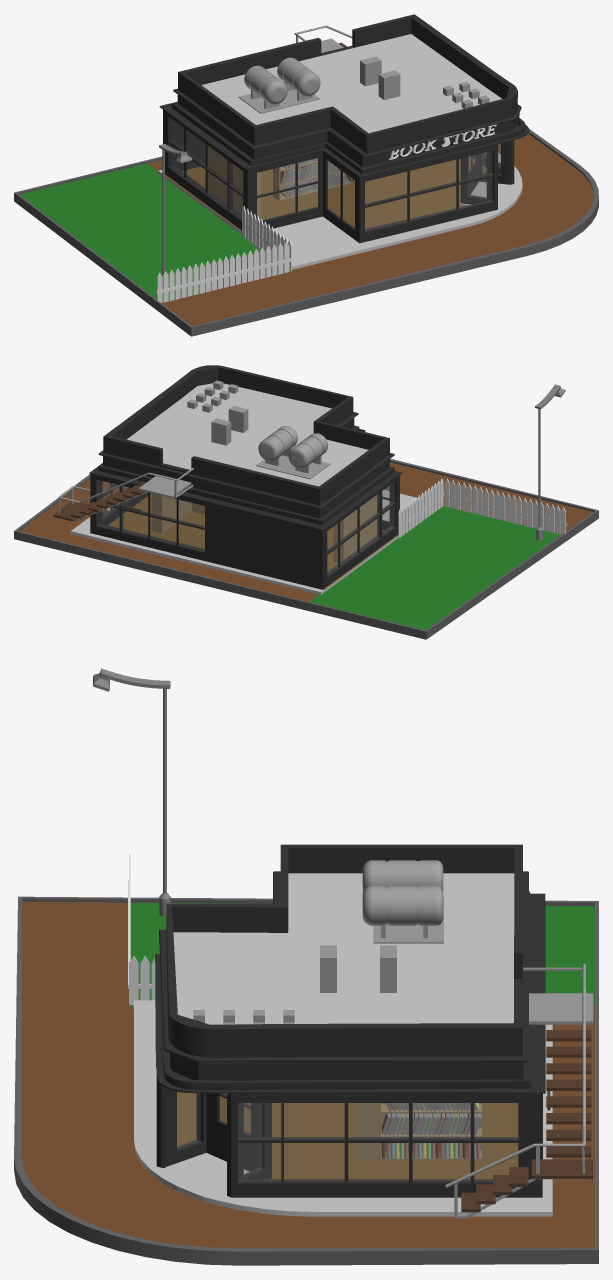
Rendered from uploads_files_6047325_book+store.fbx.
The picture shows the model from 3 angles, top to bottom: view 1: azimuth 30°, elevation 25°; view 2: azimuth 150°, elevation 25°; view 3: azimuth 270°, elevation 25°; orthographic projection. The views are drawn at different scales.
Parts seen in each view (by area): view 1: polySurface3, polySurface1, pCube2, polySurface429, pCube78; view 2: polySurface3, polySurface1, pCube2, polySurface429; view 3: polySurface3, polySurface1, pCube2, polySurface429.
Part boxes in pixels (bbox=[...]): polySurface3: bbox=[159, 14, 529, 243]; polySurface1: bbox=[14, 129, 598, 336]; pCube2: bbox=[158, 153, 522, 269]; polySurface429: bbox=[159, 144, 192, 289]; pCube78: bbox=[156, 225, 292, 294]; polySurface3: bbox=[53, 365, 402, 589]; polySurface1: bbox=[14, 458, 598, 639]; pCube2: bbox=[70, 490, 417, 594]; polySurface429: bbox=[535, 384, 565, 540]; polySurface3: bbox=[155, 844, 593, 1218]; polySurface1: bbox=[14, 896, 598, 1265]; pCube2: bbox=[133, 1000, 552, 1216]; polySurface429: bbox=[93, 668, 170, 916].
Bounding box in the file's own units: 28.07 × 9.4 × 19.55.
